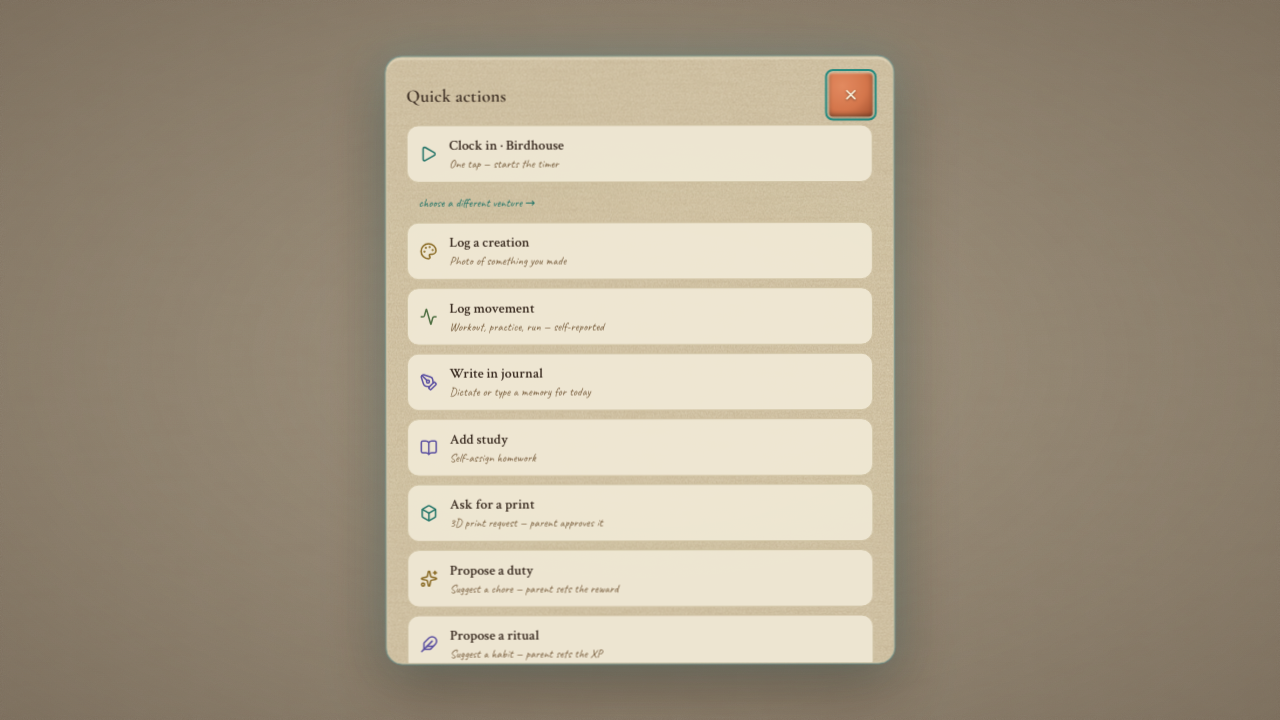
Test: QuickActionsSheet › confirms a one-tap clock-in with a success toast
Click the button "Clock in · Birdhouse One tap — starts the timer": (507, 146) top-left (406, 124), bottom-right (873, 183)
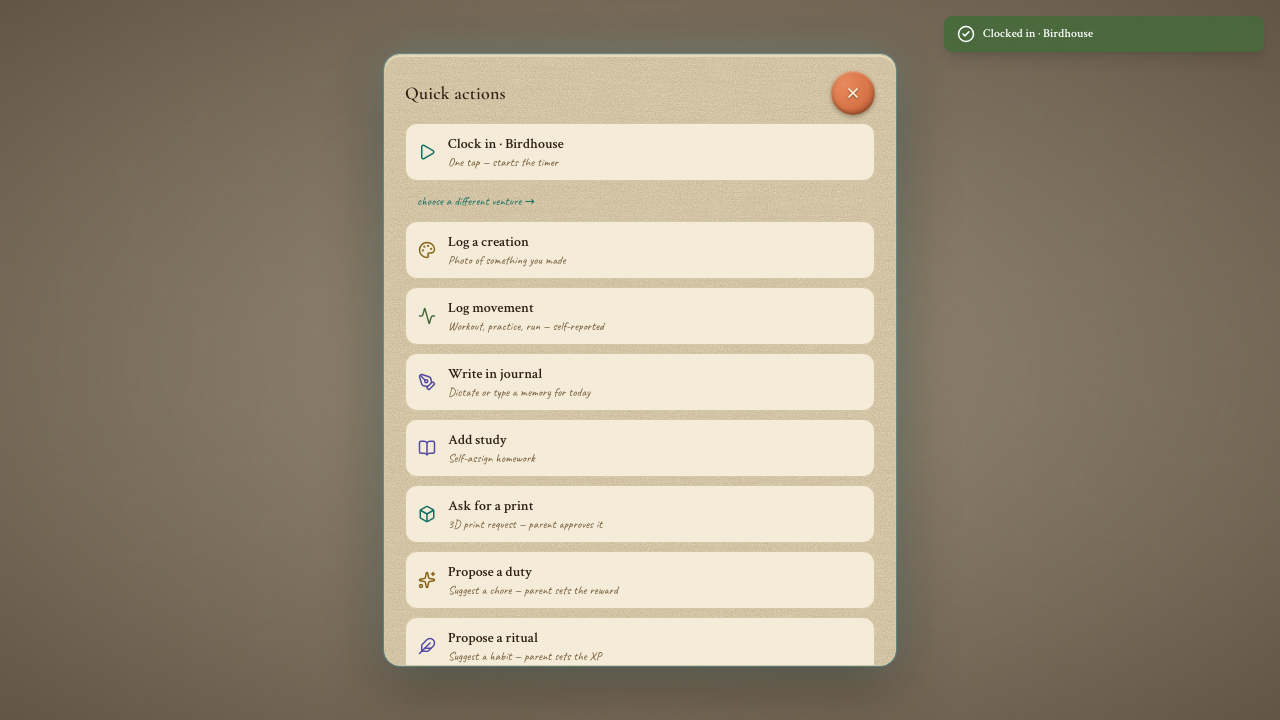
Result: the text "Clocked in · Birdhouse" is shown at top-left (983, 26), bottom-right (1093, 42)
